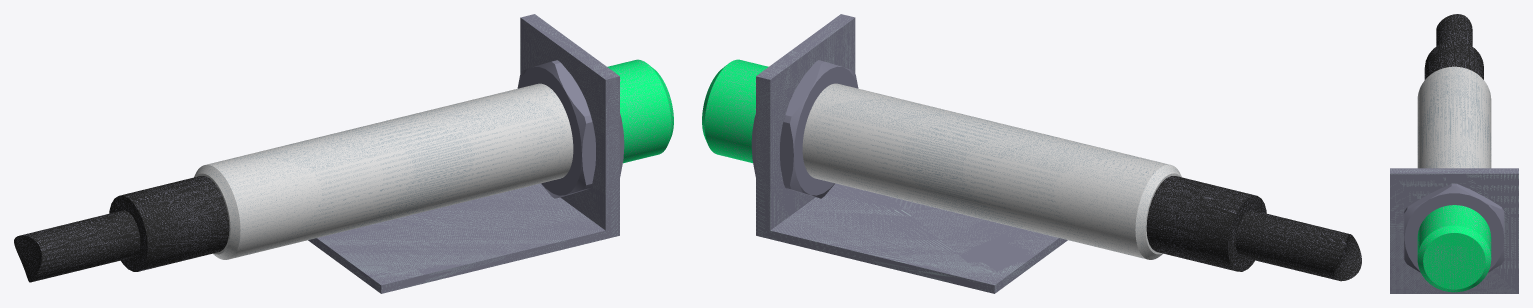
File: RPM Sensor.dae
3 renders of one model, left to right at view 1: azimuth 30°, elevation 25°; view 2: azimuth 150°, elevation 25°; view 3: azimuth 270°, elevation 25°, orthographic. The views are drawn at different scales.
Parts seen in each view (by area): view 1: sensor_XS608B1NAL10 (×3), group_0, sensor_XS608B1NAL10_29; view 2: sensor_XS608B1NAL10 (×3), group_0, sensor_XS608B1NAL10_29; view 3: sensor_XS608B1NAL10 (×3), group_0, sensor_XS608B1NAL10_29.
Boxes of the visible parts, box(x1,y1,x2,y2) form: sensor_XS608B1NAL10 (×3): box(14, 59, 673, 282); group_0: box(308, 14, 619, 293); sensor_XS608B1NAL10_29: box(109, 176, 229, 271); sensor_XS608B1NAL10 (×3): box(702, 59, 1361, 281); group_0: box(756, 14, 1067, 293); sensor_XS608B1NAL10_29: box(1146, 176, 1266, 271); sensor_XS608B1NAL10 (×3): box(1404, 14, 1504, 292); group_0: box(1390, 168, 1518, 293); sensor_XS608B1NAL10_29: box(1424, 41, 1483, 79).
Size of the model in its own units: 6.02 by 1.41 by 1.46.
